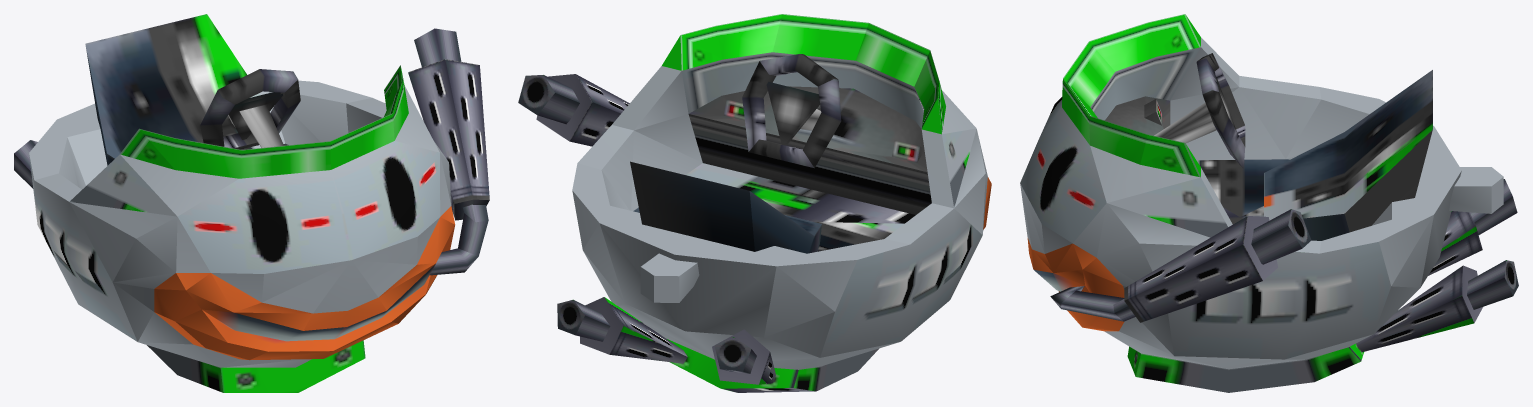
File: body_kpc.dae
3 views of the same model, side by side, from view 1: azimuth 30°, elevation 25°; view 2: azimuth 150°, elevation 25°; view 3: azimuth 270°, elevation 25° (orthographic). The views are drawn at different scales.
Visible parts, largest first — view 1: _0_0_node.001, _1_0_node; view 2: _0_0_node.001, _1_0_node; view 3: _0_0_node.001, _1_0_node.
Part boxes in pixels (x1=…): _0_0_node.001: x1=14, y1=14, x2=489, y2=392; _1_0_node: x1=200, y1=69, x2=300, y2=149; _0_0_node.001: x1=518, y1=14, x2=991, y2=392; _1_0_node: x1=742, y1=54, x2=841, y2=168; _0_0_node.001: x1=1020, y1=14, x2=1518, y2=392; _1_0_node: x1=1154, y1=53, x2=1245, y2=168.
Bounding box in the file's own units: 14.23 × 14.73 × 10.22.
